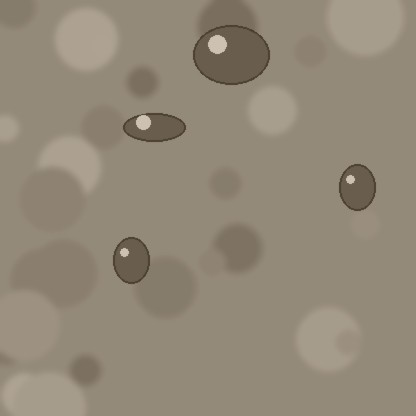gota: (193, 27, 269, 89), (123, 114, 185, 144), (339, 166, 375, 214), (113, 239, 149, 287)
